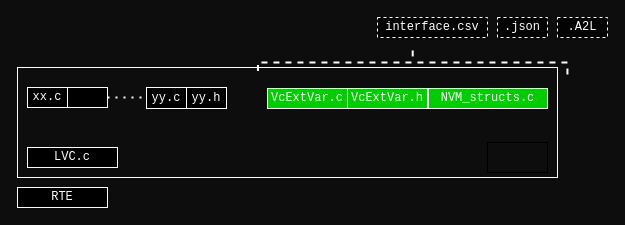
This 625x225 diagram has some shape labels left out. Here are the shapes that lost their labels. From the top down, the centre of each, then its label:
At [87,97]: "xx.h".
At [517,157]: "SwC".
